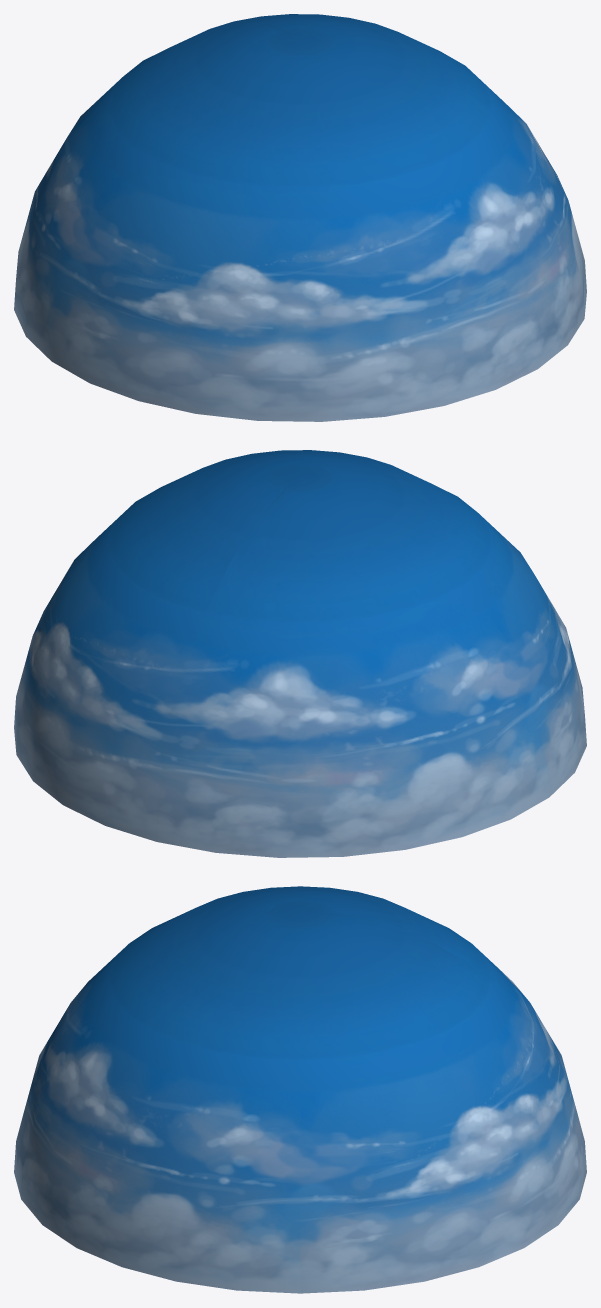
File: sky.obj
3 views of the same model, one above another, from view 1: azimuth 30°, elevation 25°; view 2: azimuth 150°, elevation 25°; view 3: azimuth 270°, elevation 25° (orthographic).
Parts seen in each view (by area): view 1: Sky; view 2: Sky; view 3: Sky.
Boxes of the visible parts, bbox=[...] form: Sky: bbox=[14, 14, 586, 421]; Sky: bbox=[14, 450, 586, 857]; Sky: bbox=[14, 886, 586, 1293].
Size of the model in its own units: 0.1681 by 0.084 by 0.1681.
Materials: 1 (1 with a texture image).
